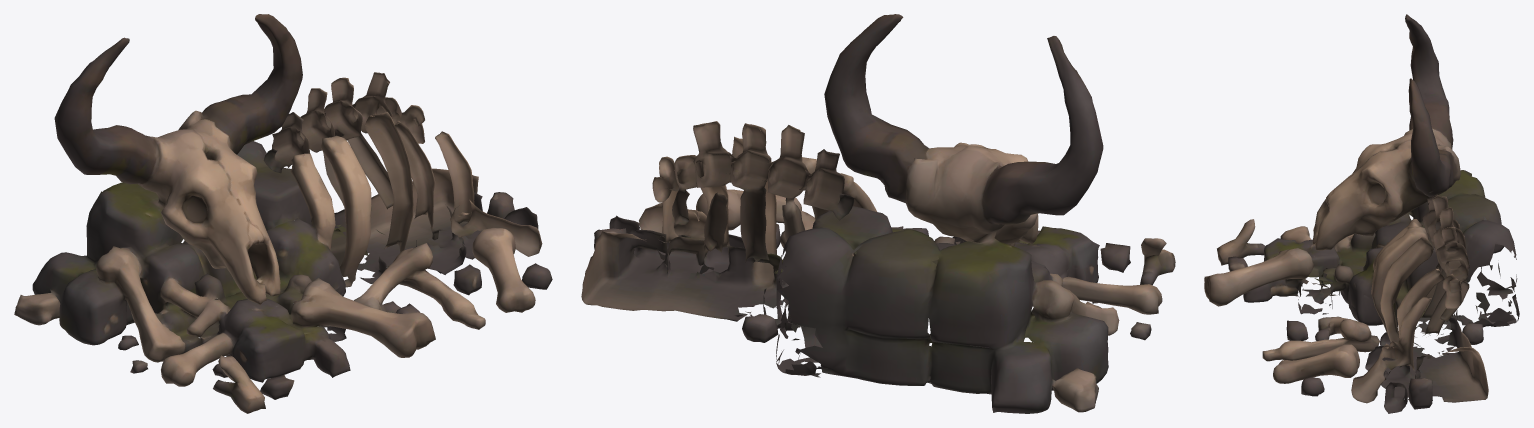
Rendered from bone_pile.glb.
The picture shows the model from 3 angles, left to right: view 1: azimuth 30°, elevation 25°; view 2: azimuth 150°, elevation 25°; view 3: azimuth 270°, elevation 25°; orthographic projection. The views are drawn at different scales.
Visible parts, largest first — view 1: tripo_node_9b3f218d; view 2: tripo_node_9b3f218d; view 3: tripo_node_9b3f218d.
Part boxes in pixels (x1,y1,x2,y2): tripo_node_9b3f218d: (14, 14, 552, 413); tripo_node_9b3f218d: (581, 14, 1175, 413); tripo_node_9b3f218d: (1204, 14, 1519, 413).
Bounding box in the file's own units: 99.77 × 59.15 × 70.32.
1 material, 1 textured.
